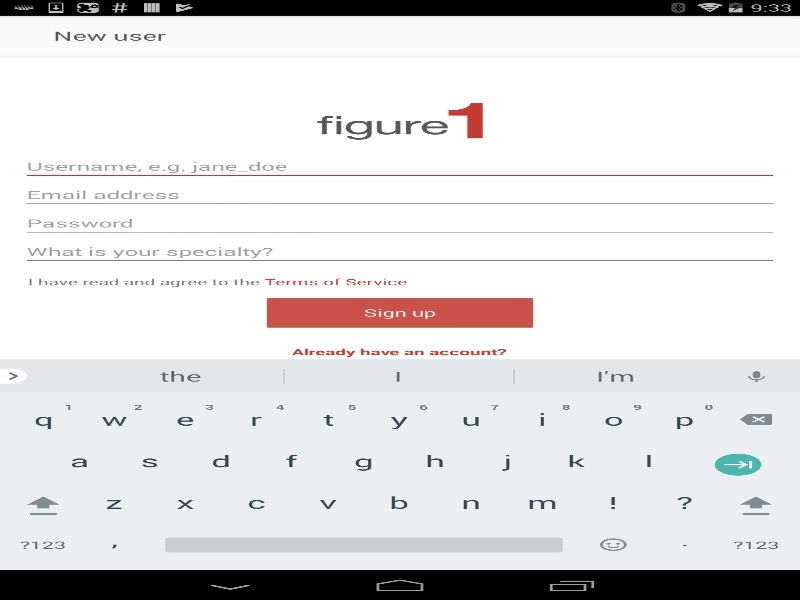Button: (266, 297, 533, 327)
Input: (21, 180, 778, 209), (21, 152, 778, 180), (21, 209, 778, 237), (21, 237, 778, 265)
